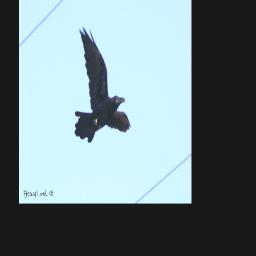Crow: (74, 26, 131, 143)
